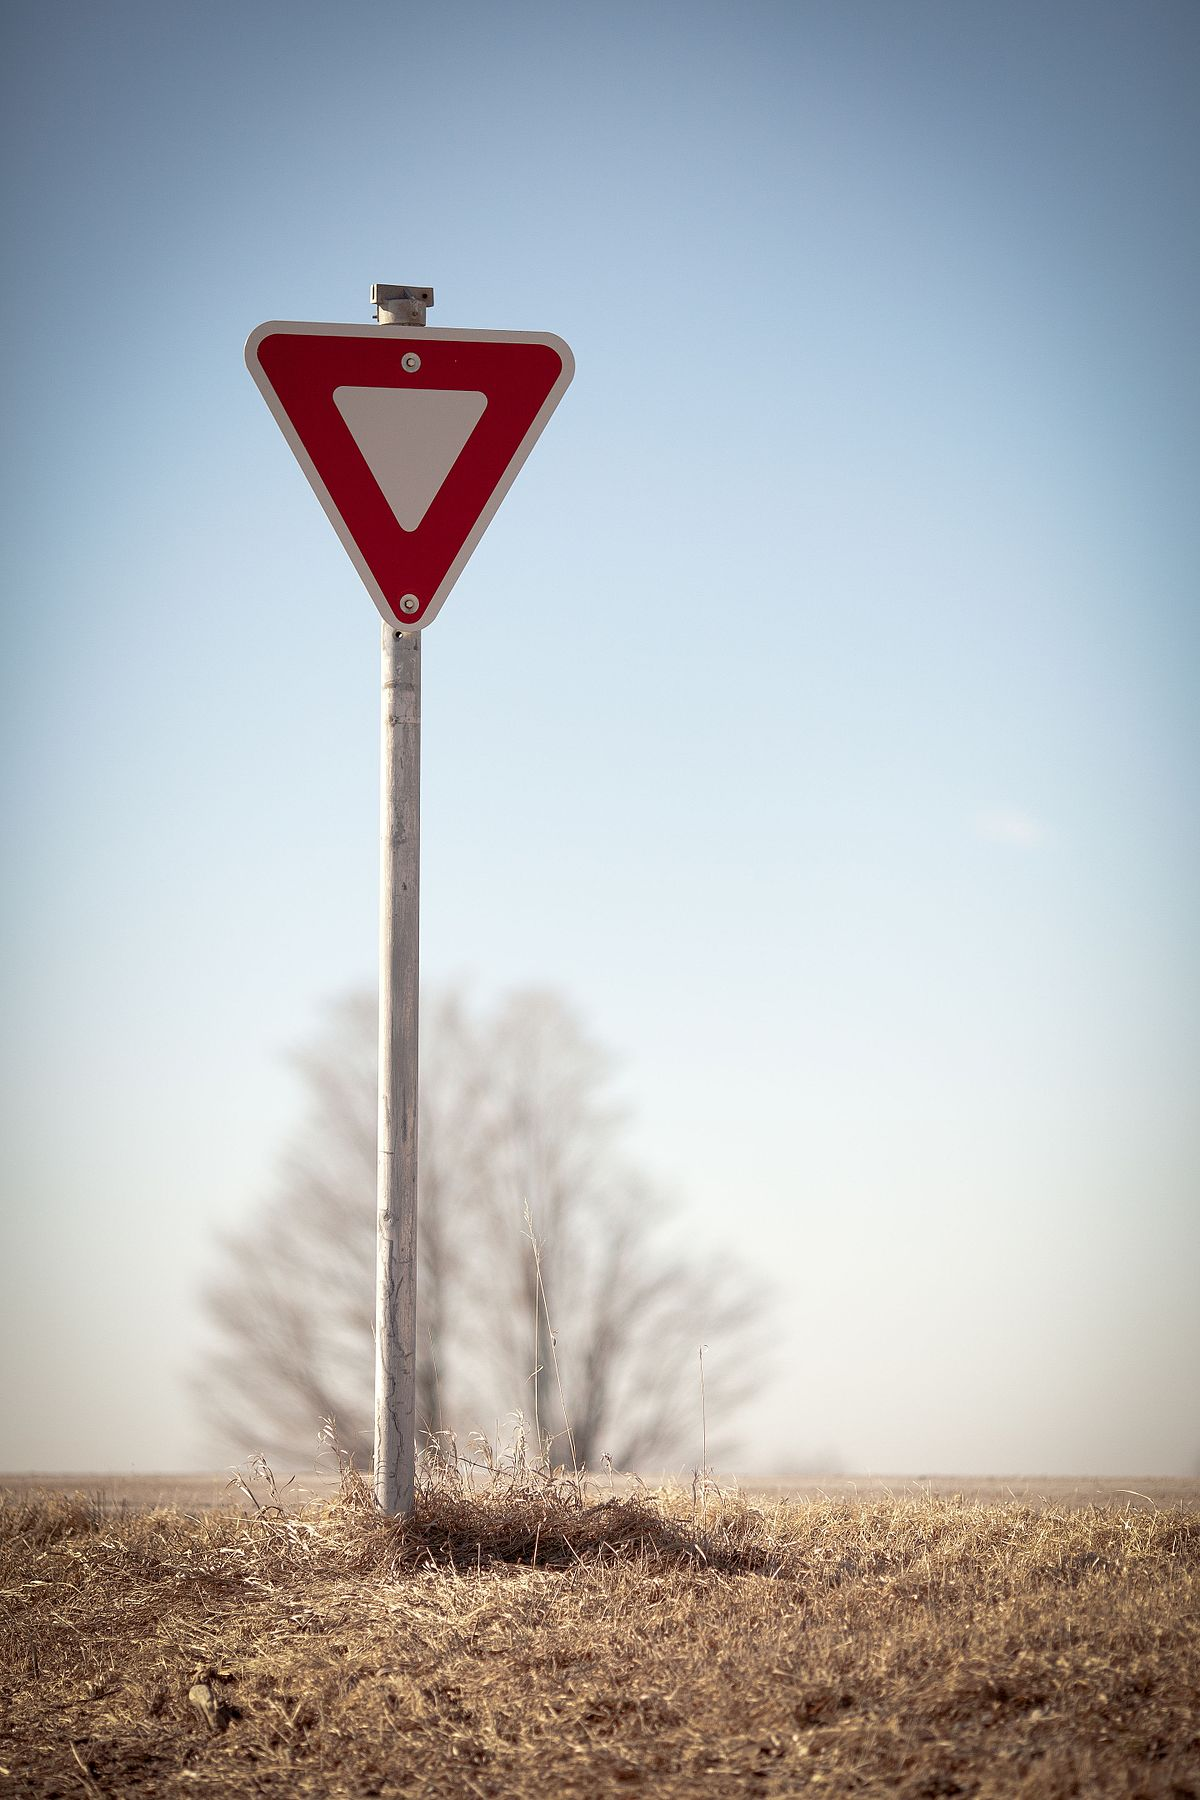sign_yield: (232, 312, 577, 637)
